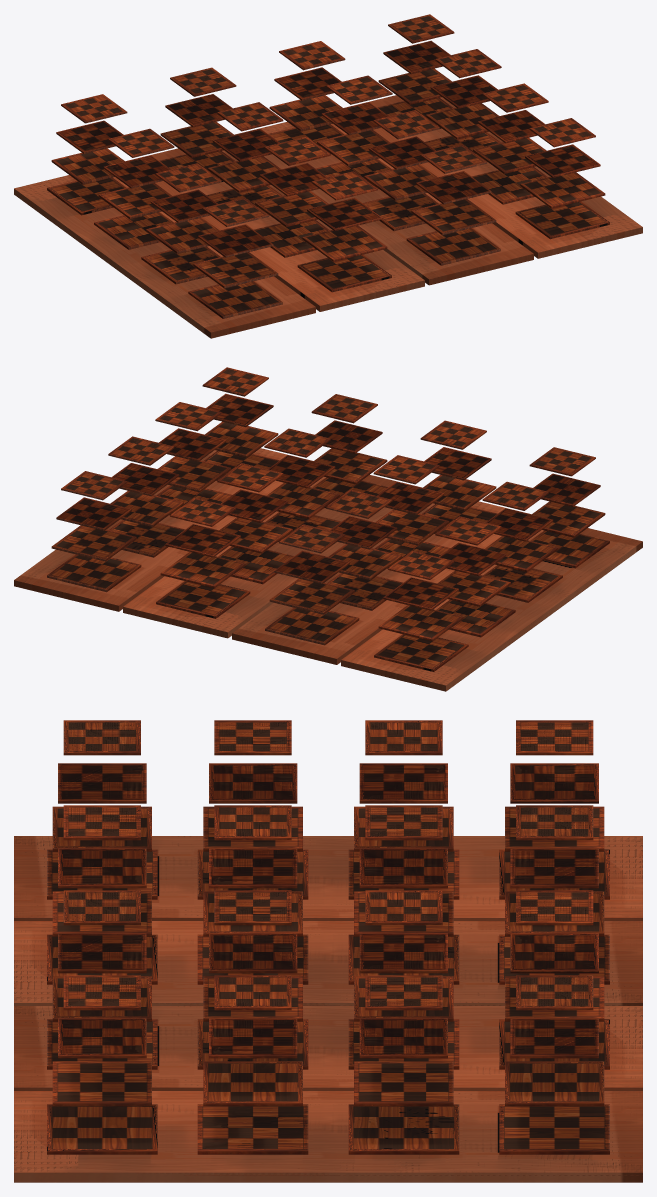
The model's file is 5D-Chess.fbx.
3 renders of one model, top to bottom at view 1: azimuth 30°, elevation 25°; view 2: azimuth 150°, elevation 25°; view 3: azimuth 270°, elevation 25°, orthographic. The views are drawn at different scales.
Parts seen in each view (by area): view 1: ChessBoard_LP; view 2: ChessBoard_LP; view 3: ChessBoard_LP.
Part boxes in pixels (box(x1,y1,x2,y2)): ChessBoard_LP: box(14, 14, 642, 338); ChessBoard_LP: box(14, 367, 642, 691); ChessBoard_LP: box(14, 720, 642, 1182).
Bounding box in the file's own units: 793 × 165 × 626.
